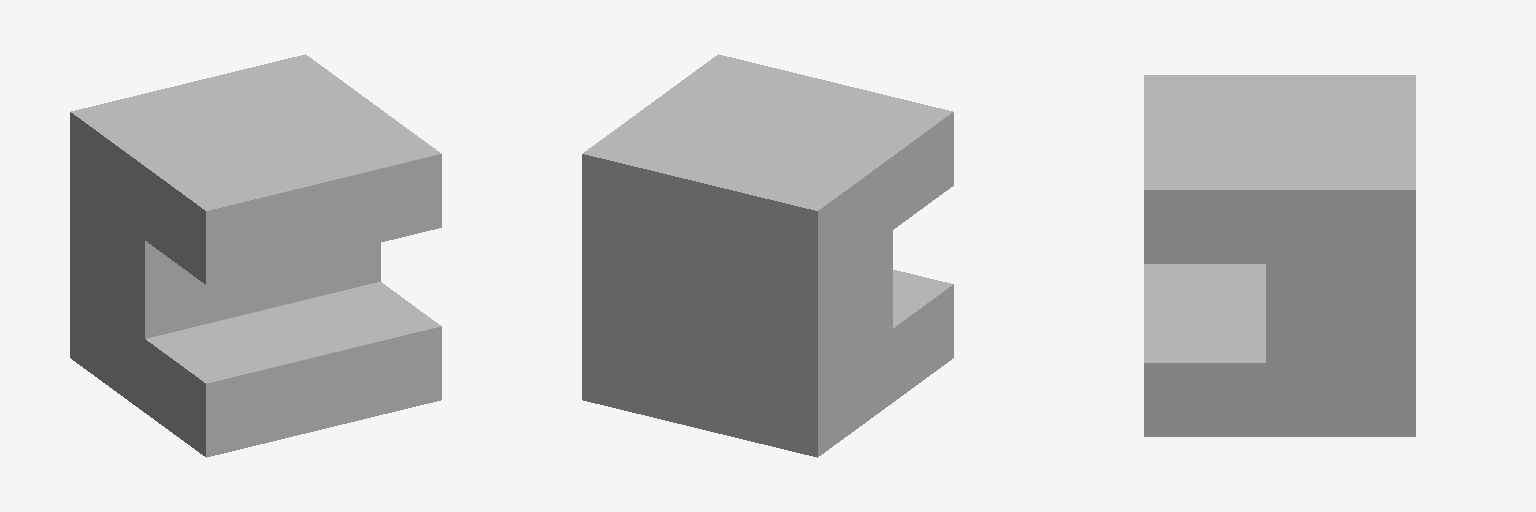
File: straight_piece.obj
The picture shows the model from 3 angles: view 1: azimuth 30°, elevation 25°; view 2: azimuth 150°, elevation 25°; view 3: azimuth 270°, elevation 25°; orthographic projection.
Visible parts, largest first — view 1: straight; view 2: straight; view 3: straight.
Boxes of the visible parts, x1=… form: straight: x1=70, y1=54, x2=441, y2=457; straight: x1=582, y1=54, x2=953, y2=457; straight: x1=1144, y1=75, x2=1415, y2=436.
Bounding box in the file's own units: 20 × 20 × 20.